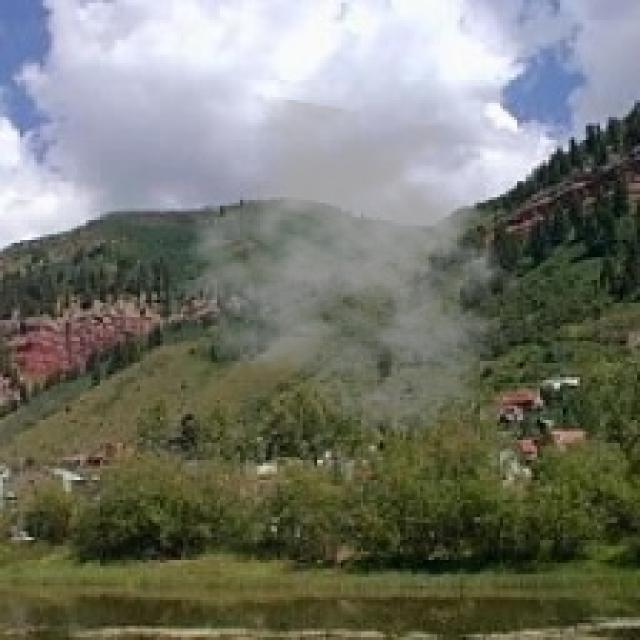smoke: (168, 94, 546, 437)
